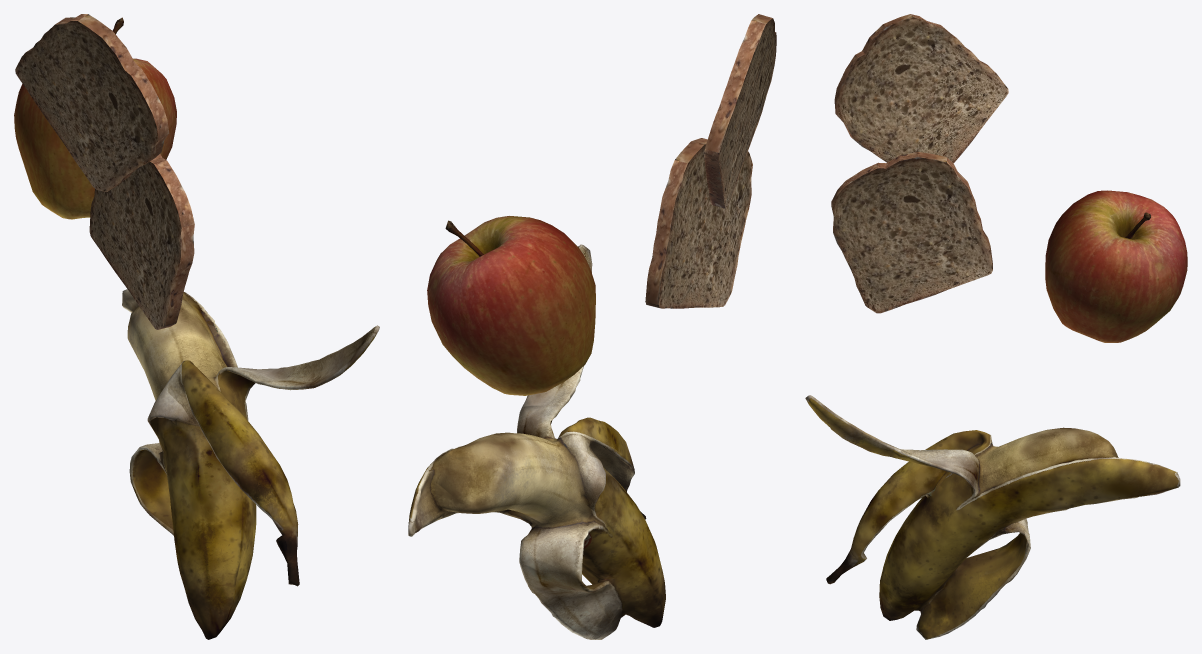
The model's file is organic.glb.
3 views of the same model, side by side, from view 1: azimuth 30°, elevation 25°; view 2: azimuth 150°, elevation 25°; view 3: azimuth 270°, elevation 25° (orthographic). The views are drawn at different scales.
Parts seen in each view (by area): view 1: Banana, bread_Material.002_0.001, bread, Apple_M_Apple_0.001; view 2: Banana, Apple_M_Apple_0.001, bread, bread_Material.002_0.001; view 3: Banana, bread, bread_Material.002_0.001, Apple_M_Apple_0.001.
Part boxes in pixels (x1,y1,x2,y2): Banana: [122, 289, 379, 639]; bread_Material.002_0.001: [15, 14, 169, 191]; bread: [89, 154, 194, 329]; Apple_M_Apple_0.001: [14, 17, 176, 219]; Banana: [408, 244, 665, 639]; Apple_M_Apple_0.001: [427, 216, 595, 395]; bread: [645, 138, 752, 308]; bread_Material.002_0.001: [704, 14, 776, 208]; Banana: [805, 395, 1180, 639]; bread: [831, 152, 992, 313]; bread_Material.002_0.001: [834, 14, 1008, 163]; Apple_M_Apple_0.001: [1045, 190, 1187, 342].
Size of the model in its own units: 2.09 by 5.12 by 3.16.
Materials: 4 (4 with a texture image).
